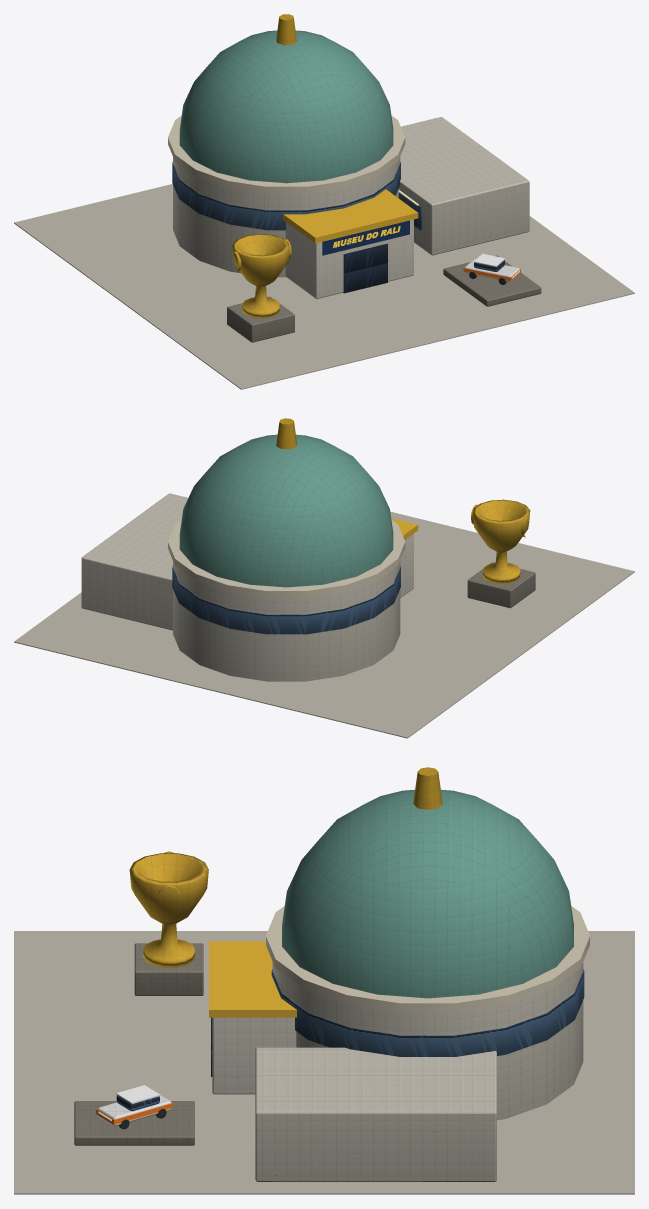
File: museu_do_rali.glb
The picture shows the model from 3 angles, top to bottom: view 1: azimuth 30°, elevation 25°; view 2: azimuth 150°, elevation 25°; view 3: azimuth 270°, elevation 25°; orthographic projection. The views are drawn at different scales.
Parts seen in each view (by area): view 1: museu_do_rali, museu_do_rali_liso; view 2: museu_do_rali, museu_do_rali_liso; view 3: museu_do_rali, museu_do_rali_liso.
Boxes of the visible parts, box(x1,y1,x2,y2) form: museu_do_rali: box(172, 14, 541, 342); museu_do_rali_liso: box(14, 115, 634, 389); museu_do_rali: box(81, 418, 535, 681); museu_do_rali_liso: box(14, 511, 634, 738); museu_do_rali: box(74, 767, 584, 1181); museu_do_rali_liso: box(14, 906, 634, 1194).
Bounding box in the file's own units: 36 × 18.67 × 36.
Materials: 6 (3 with a texture image).
